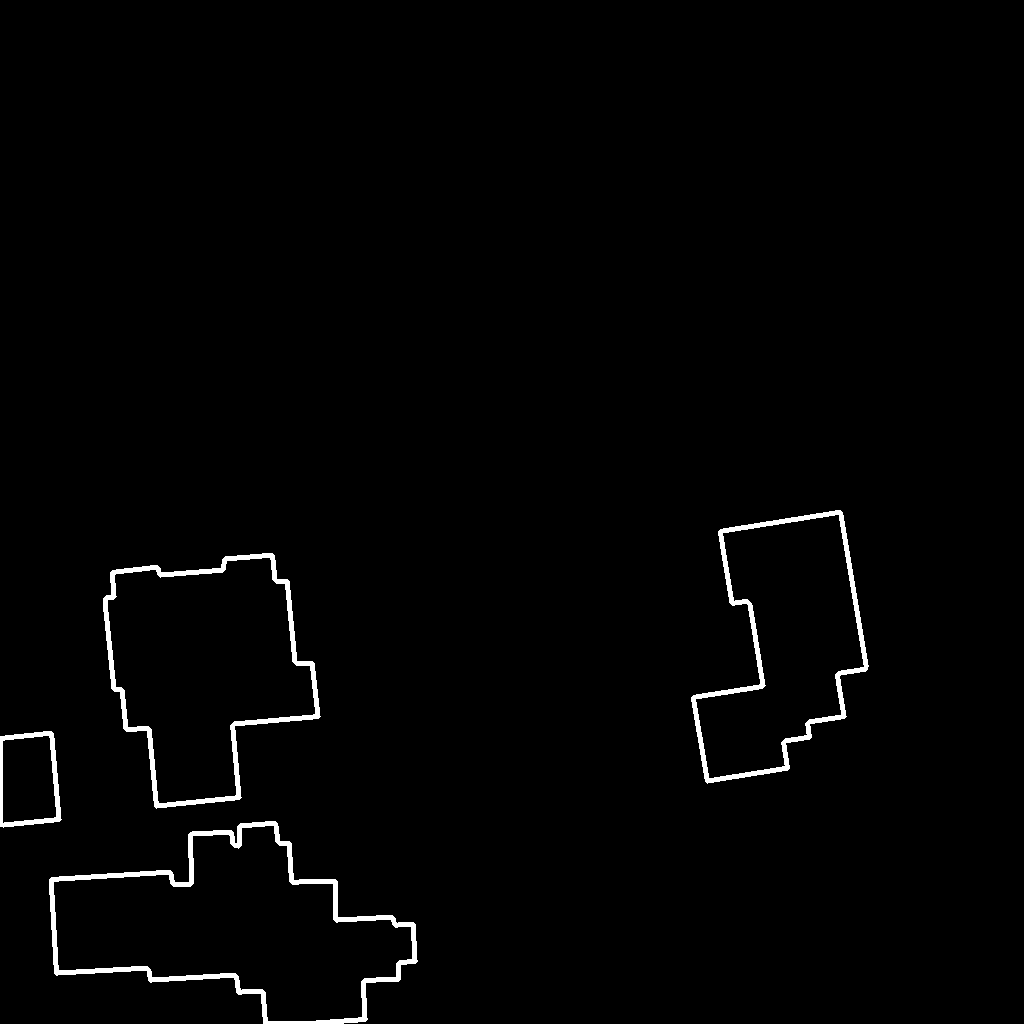building: (51, 823, 416, 1024), (105, 555, 319, 807), (693, 512, 867, 782), (0, 733, 60, 826)
